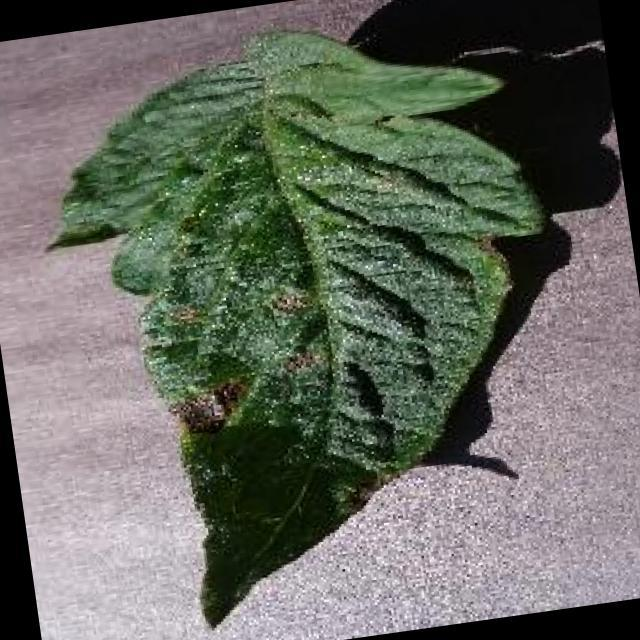Tomato Early blight leaf: (39, 1, 592, 640)
